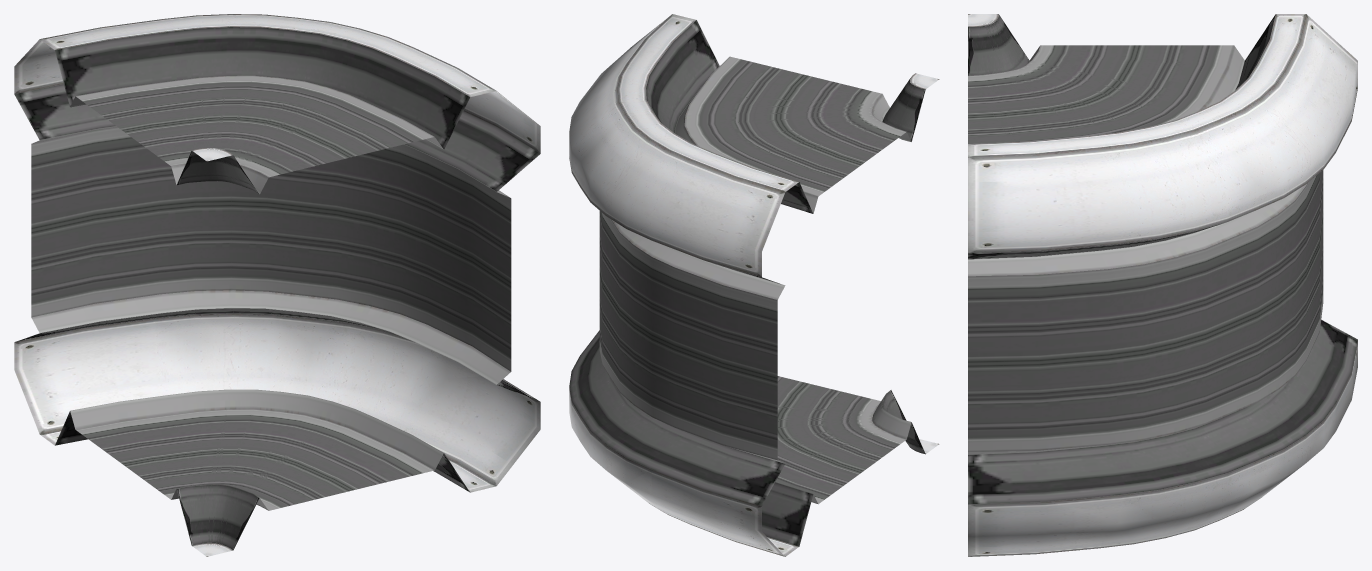
The model's file is CeilingBrace_Corner.FBX.
3 views of the same model, side by side, from view 1: azimuth 30°, elevation 25°; view 2: azimuth 150°, elevation 25°; view 3: azimuth 270°, elevation 25° (orthographic). The views are drawn at different scales.
Parts seen in each view (by area): view 1: CeilingBrace_Corner; view 2: CeilingBrace_Corner; view 3: CeilingBrace_Corner.
Boxes of the visible parts, x1,y1,x2,y2 form: CeilingBrace_Corner: [14, 14, 540, 556]; CeilingBrace_Corner: [569, 14, 939, 556]; CeilingBrace_Corner: [968, 14, 1357, 556].
Bounding box in the file's own units: 1.15 × 1.3 × 1.15.
